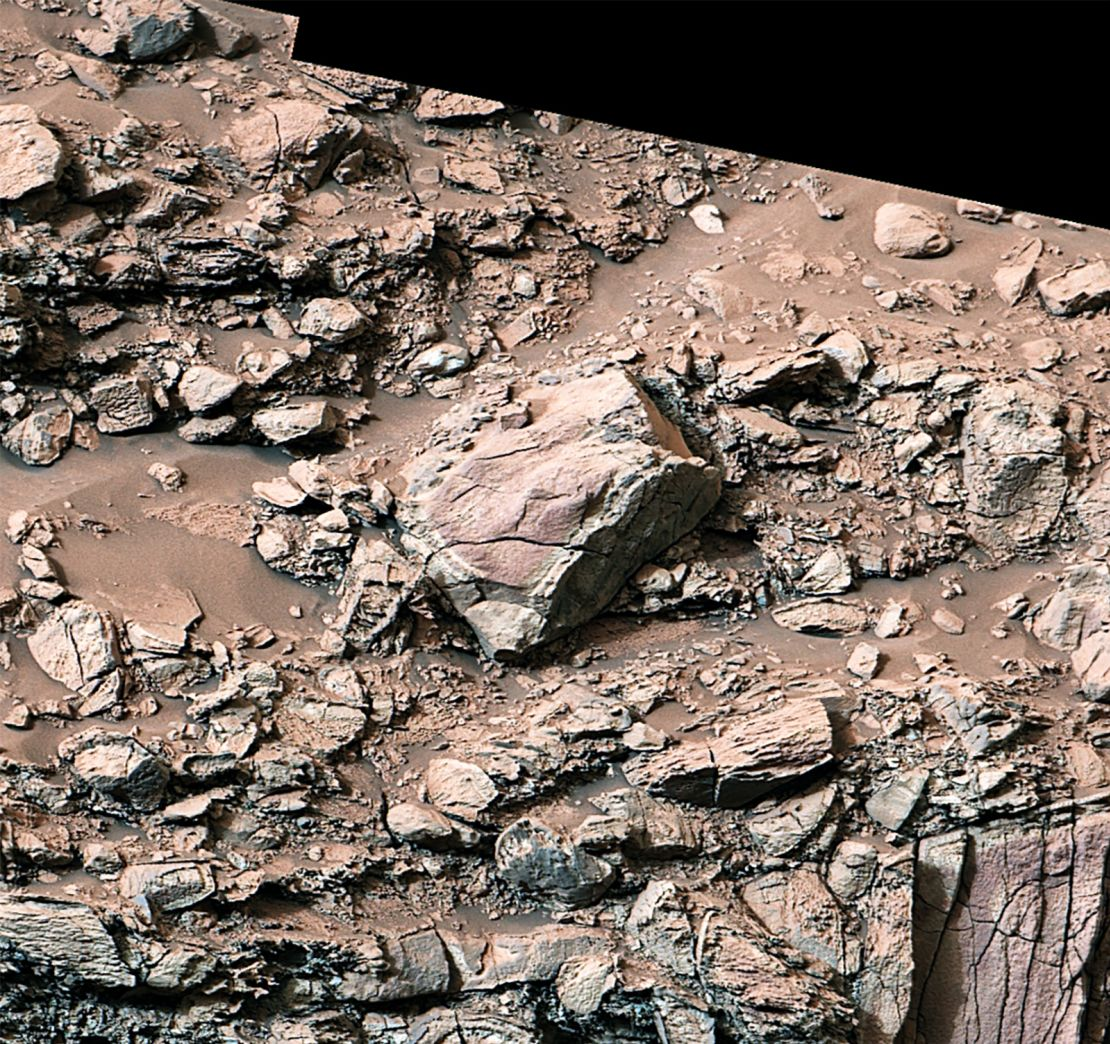boulder: (416, 371, 720, 658), (23, 597, 157, 709), (219, 108, 367, 194)
